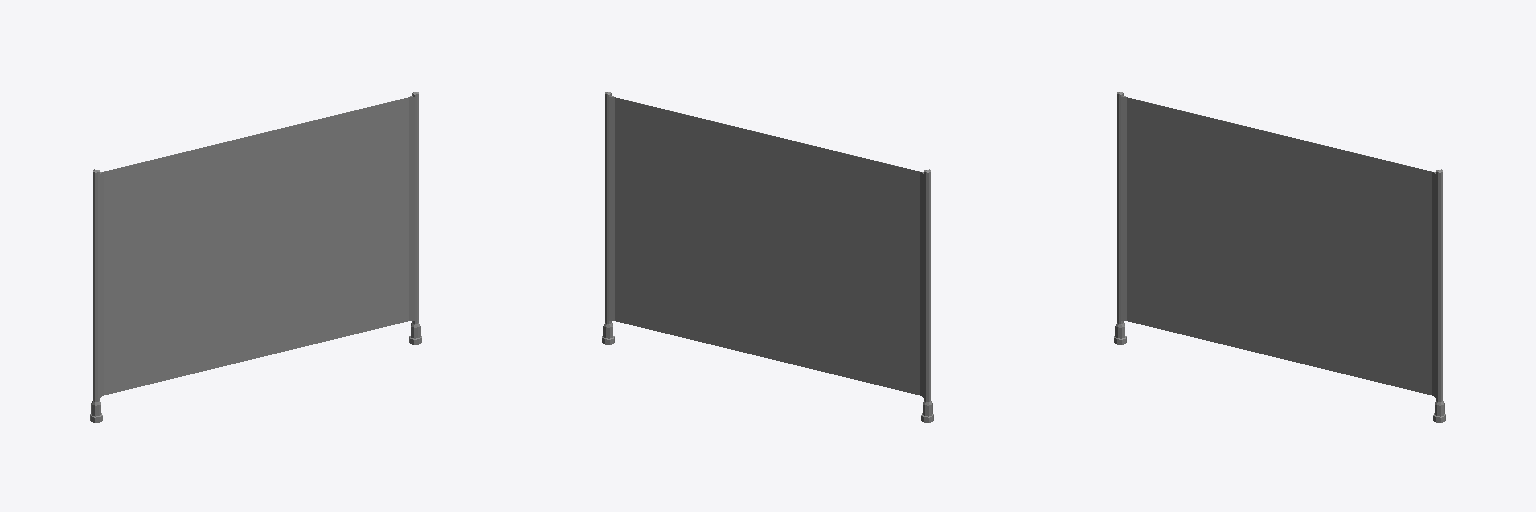
The model's file is Cutrain.obj.
3 views of the same model, side by side, from view 1: azimuth 30°, elevation 25°; view 2: azimuth 150°, elevation 25°; view 3: azimuth 330°, elevation 25° (orthographic).
Visible parts, largest first — view 1: Box001; view 2: Box001; view 3: Box001.
Part boxes in pixels (x1,y1,x2,y2): Box001: (90, 92, 421, 422); Box001: (602, 92, 933, 422); Box001: (1114, 92, 1445, 422).
Size of the model in its own units: 2239 by 1623 by 75.47.